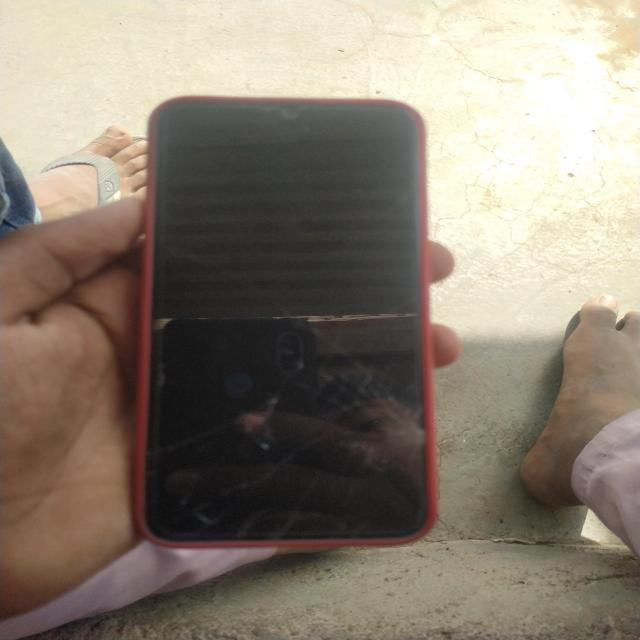cellphone: (86, 45, 520, 588)
